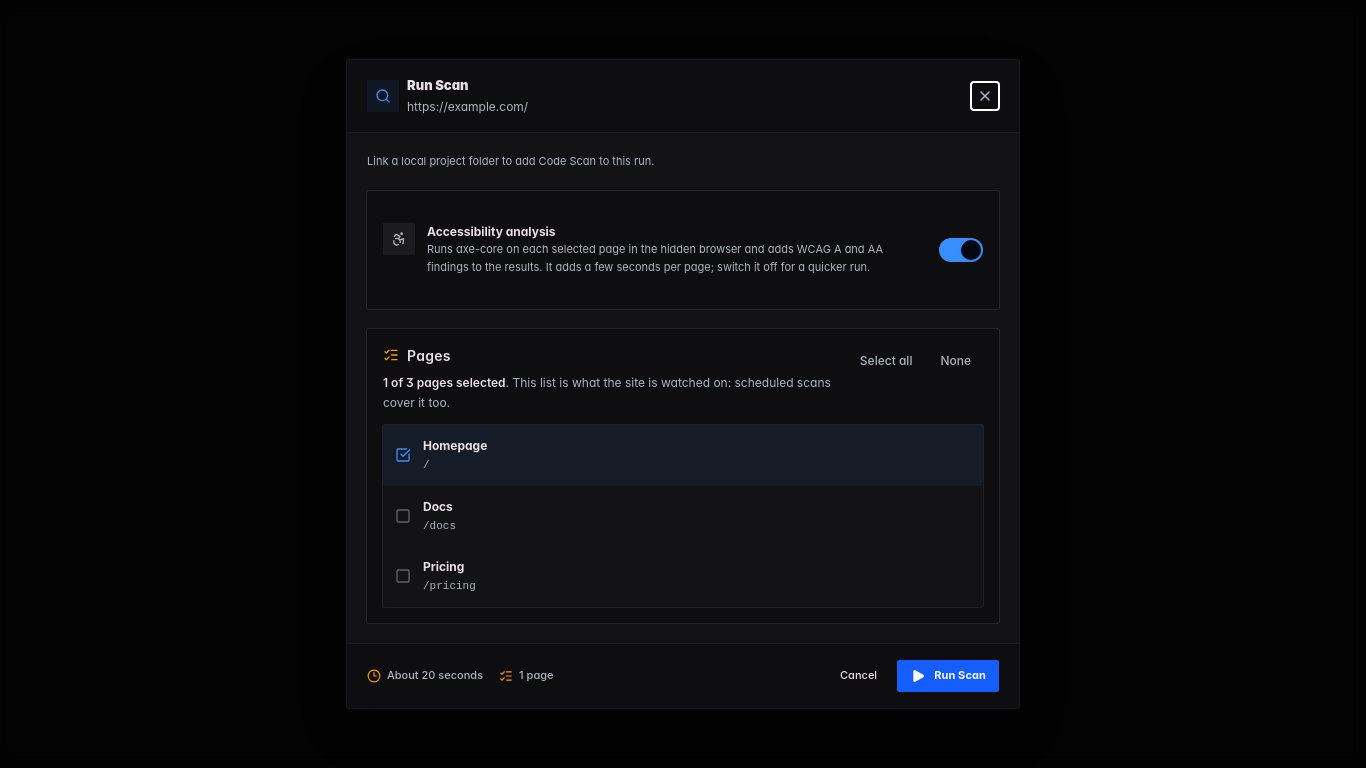
ScanConfigOverlay › shows a refused scope write and holds the run
Expected: the text "1 of 3 pages selected" is shown, [383,375,506,390]
What coordinates should you click on to do the following:
click the button "Run Scan"
I would click on:
 (948, 676)
Its box is [897,660,999,692].
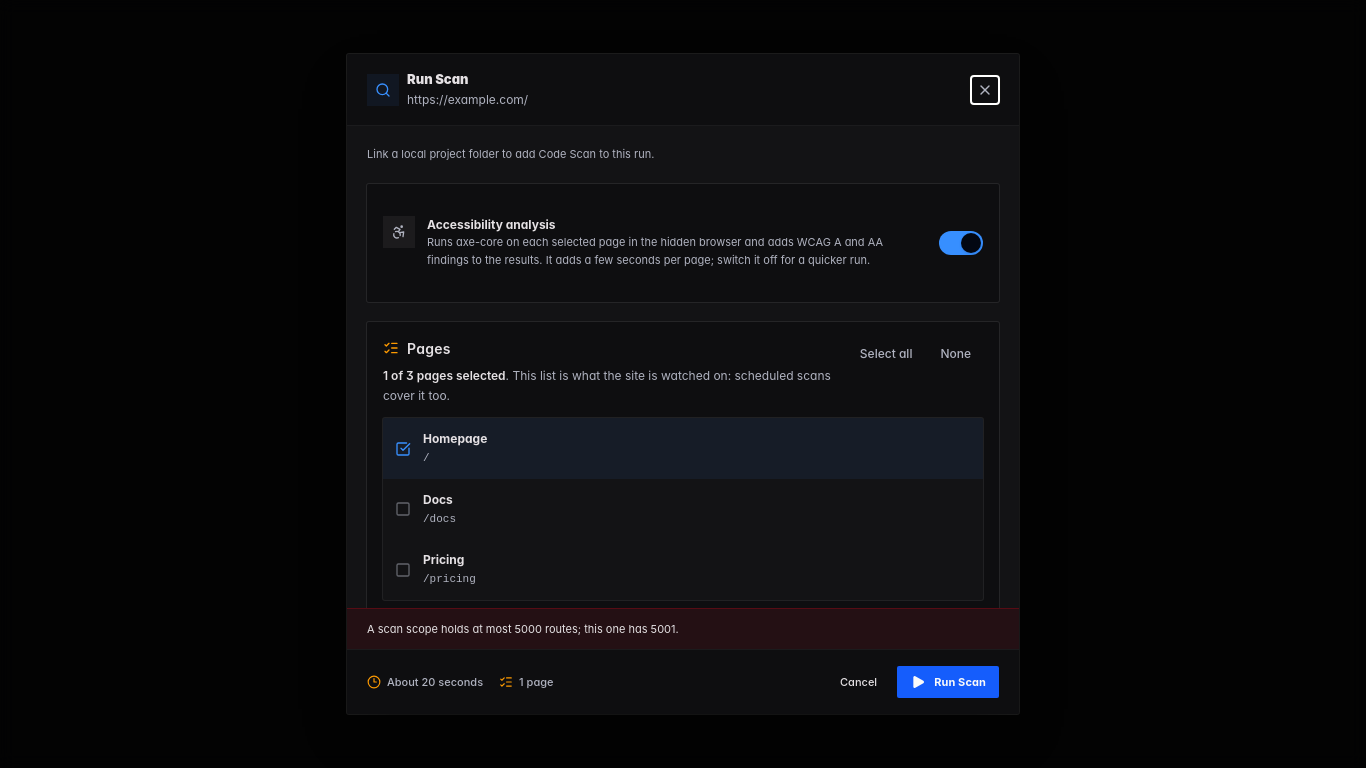
Result: the message shows "at most 5000 routes" at [367,622,679,636]
